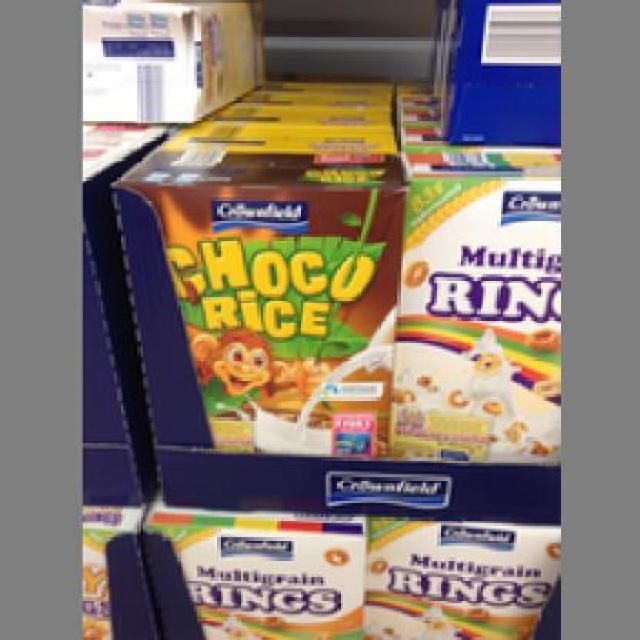Cereal: (106, 148, 403, 458), (400, 142, 557, 458)
